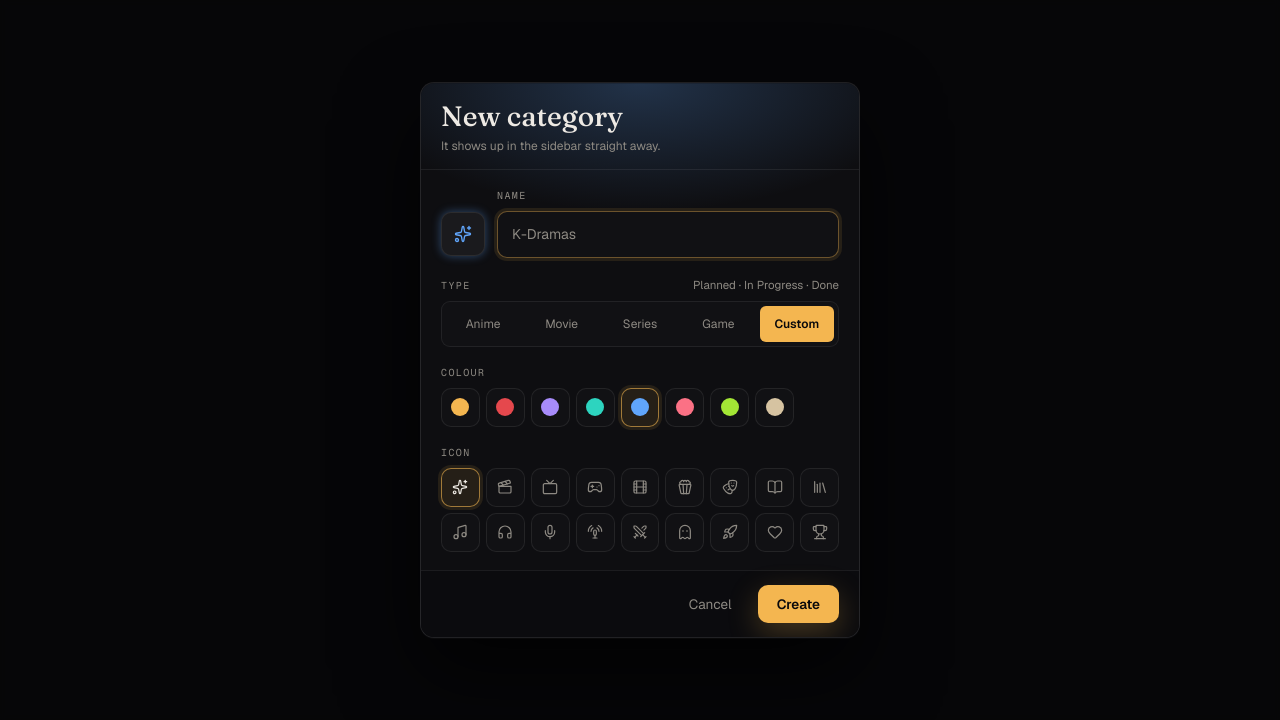
Test: CategoryDialog › asks for a name before saving, and shows the server's reason on failure
This screenshot has width=1280, height=720.
Step 1. Click the button "Create" → (798, 604), box [758,585,839,623]
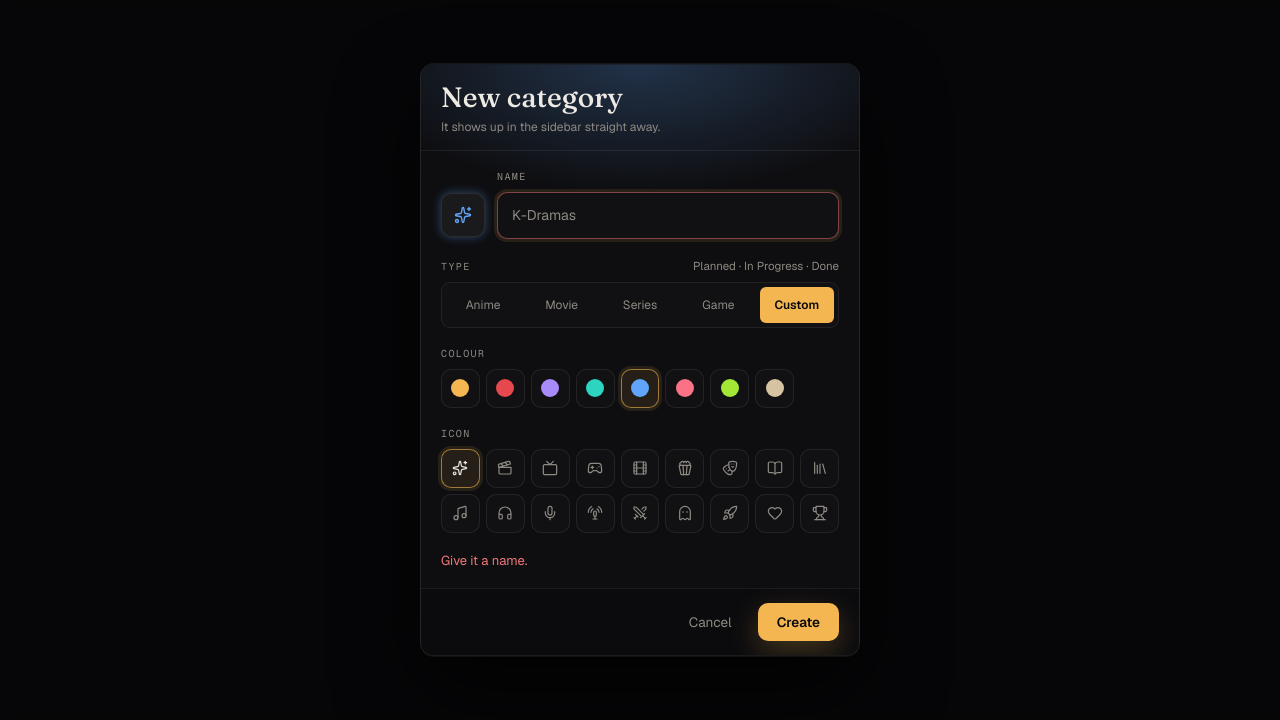
Expected: the message reads "Give it a name.", [441,552,527,569]
Step 2. Type "Books" into the field labelled "Name" → (668, 216), box [497,192,839,239]
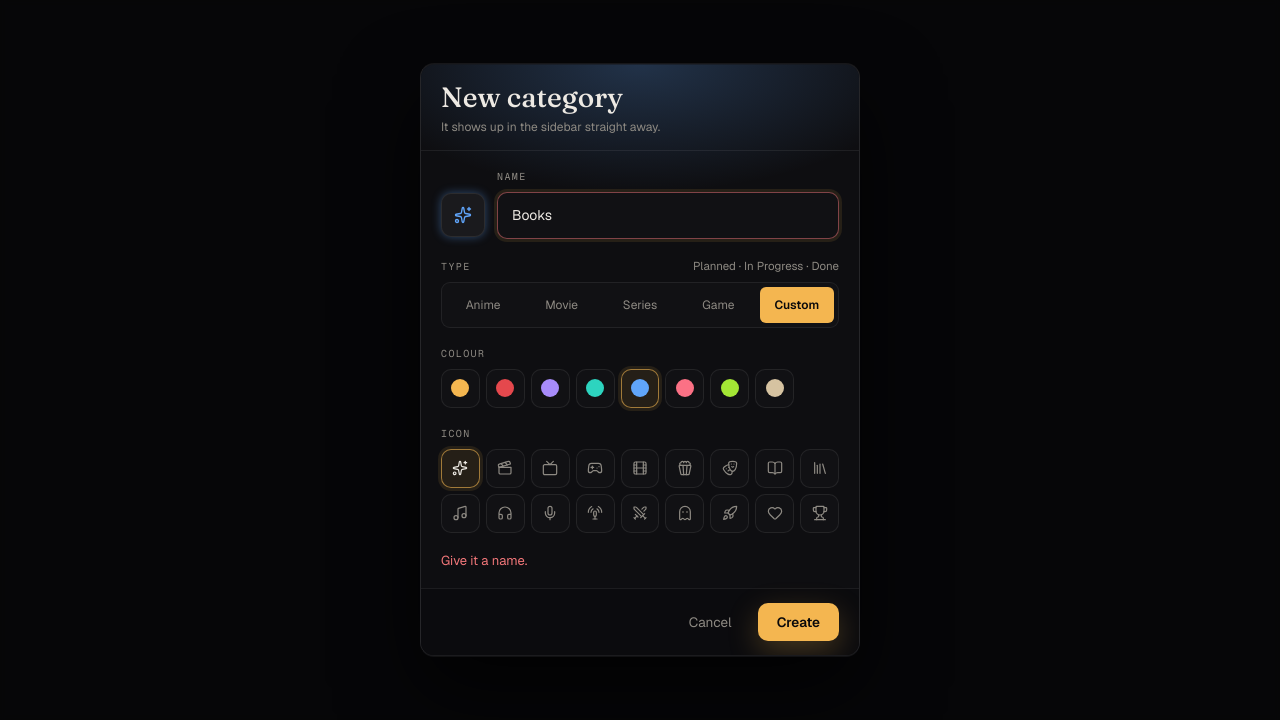
Step 3. Click the button "Create" → (798, 623), box [758,604,839,642]
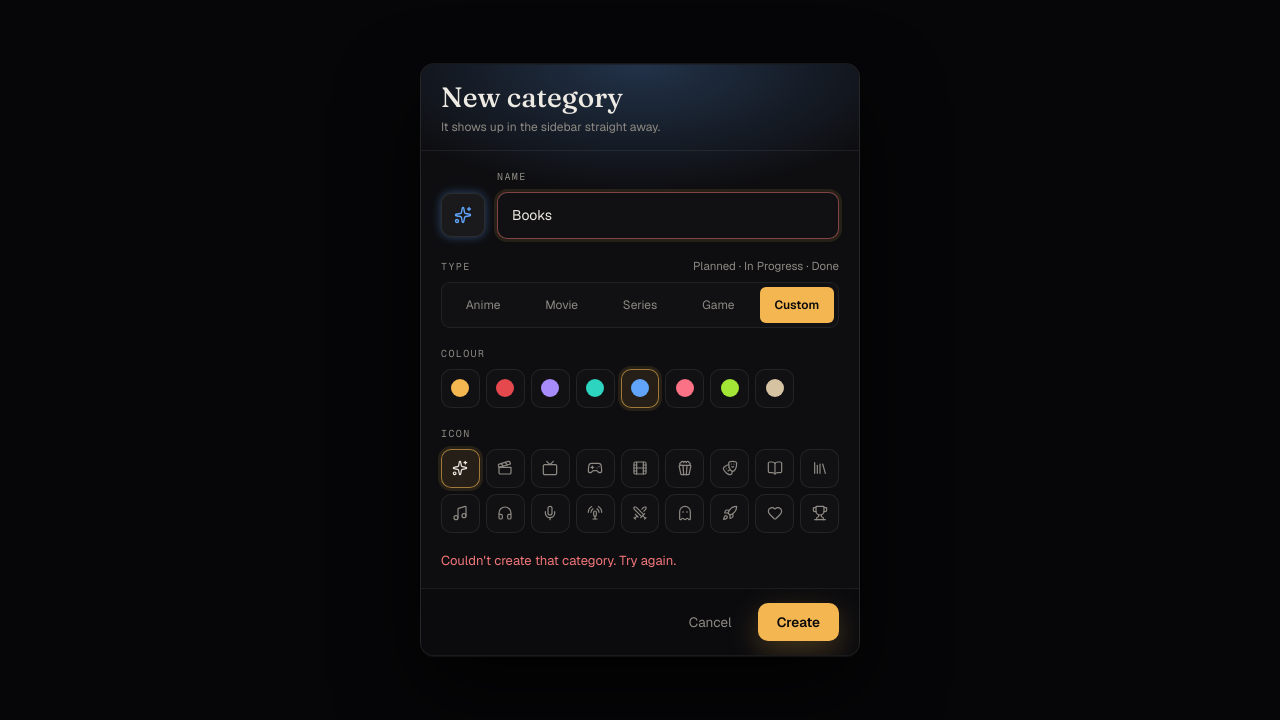
Expected: the text "Couldn't create that category. Try again." is shown, [441,552,676,569]
